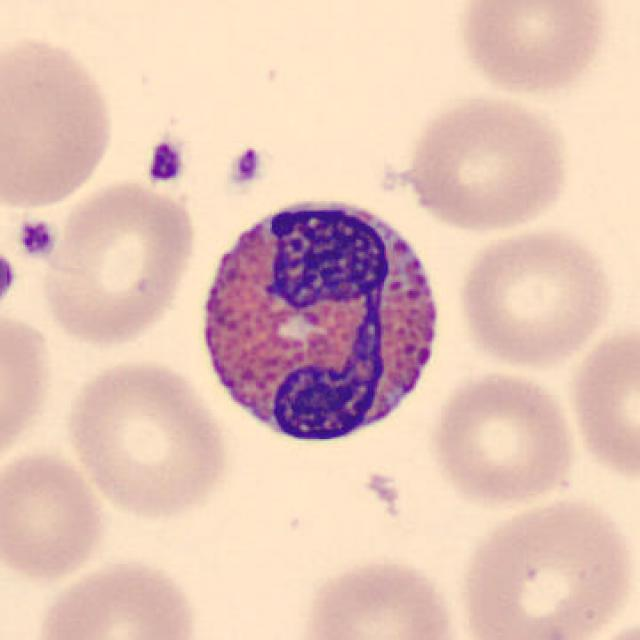Eosinophil: (183, 178, 457, 460)
Platelets: (142, 136, 188, 187), (16, 215, 59, 261), (224, 147, 268, 190), (0, 247, 20, 310)
RBC: (60, 354, 233, 524), (32, 176, 199, 349), (454, 492, 636, 640), (396, 92, 574, 235), (453, 222, 619, 370), (0, 28, 121, 212), (426, 366, 580, 509), (454, 0, 614, 99), (0, 444, 110, 584), (30, 553, 204, 640), (295, 553, 464, 640), (565, 317, 640, 488), (0, 307, 55, 474), (572, 613, 639, 640)
